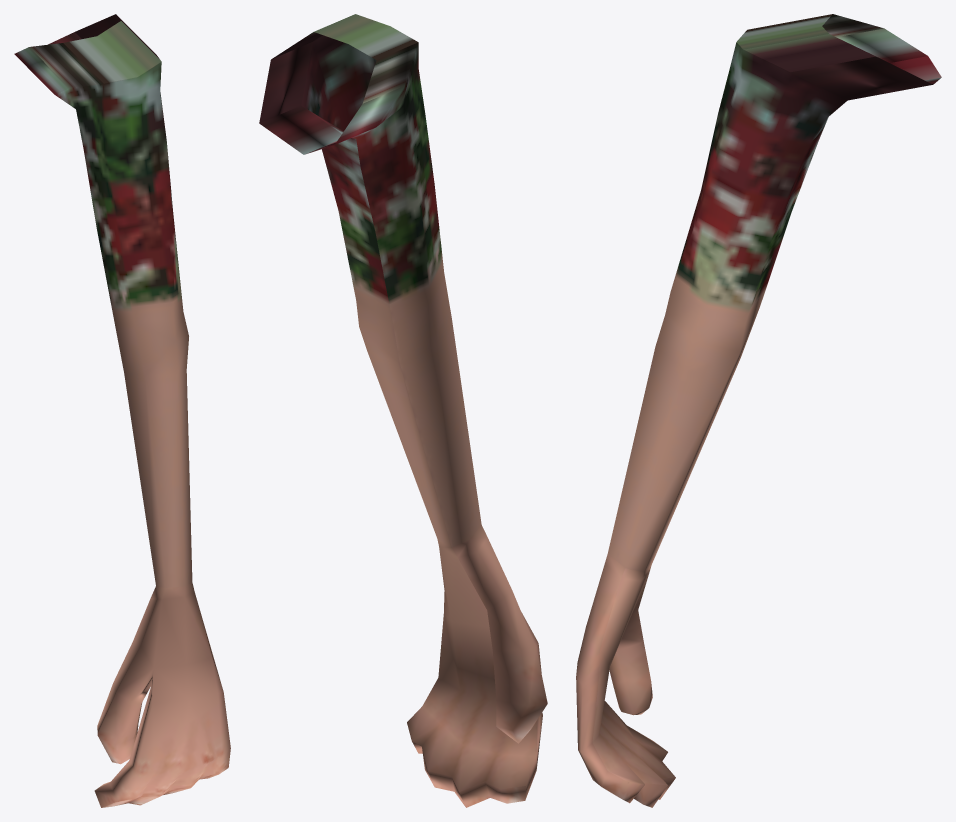
The model's file is brazoIzquierdo.obj.
3 views of the same model, side by side, from view 1: azimuth 30°, elevation 25°; view 2: azimuth 150°, elevation 25°; view 3: azimuth 270°, elevation 25° (orthographic). The views are drawn at different scales.
Parts seen in each view (by area): view 1: brazoIzquierdo1:brazo10; view 2: brazoIzquierdo1:brazo10; view 3: brazoIzquierdo1:brazo10.
Boxes of the visible parts, box(x1,y1,x2,y2) form: brazoIzquierdo1:brazo10: box(14, 14, 230, 807); brazoIzquierdo1:brazo10: box(259, 14, 547, 807); brazoIzquierdo1:brazo10: box(576, 14, 941, 807).
Bounding box in the file's own units: 0.3689 × 1.92 × 0.7983.
1 material, 1 textured.
